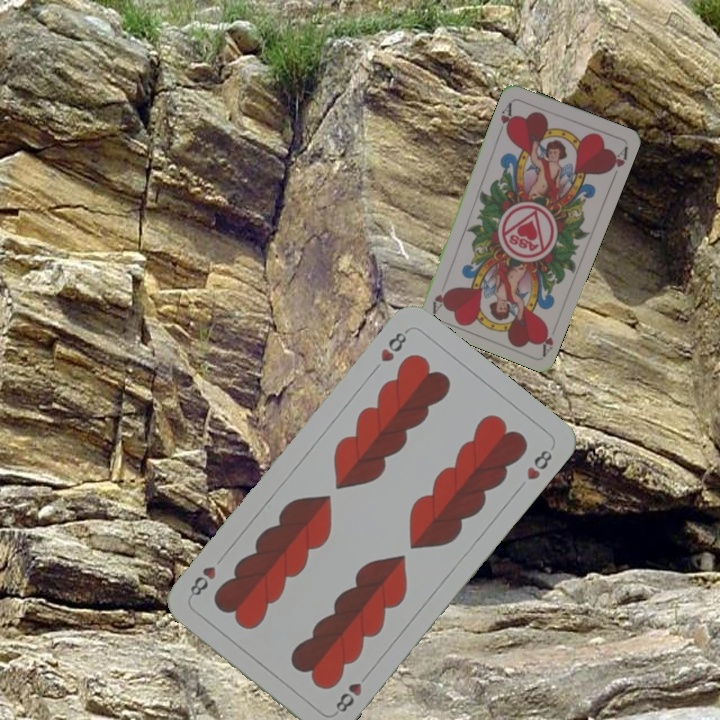H8: (331, 669, 373, 715), (376, 325, 412, 365)
HA: (535, 318, 561, 357), (495, 98, 517, 138)
